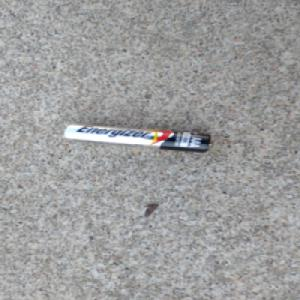Battery: (60, 122, 213, 153)
